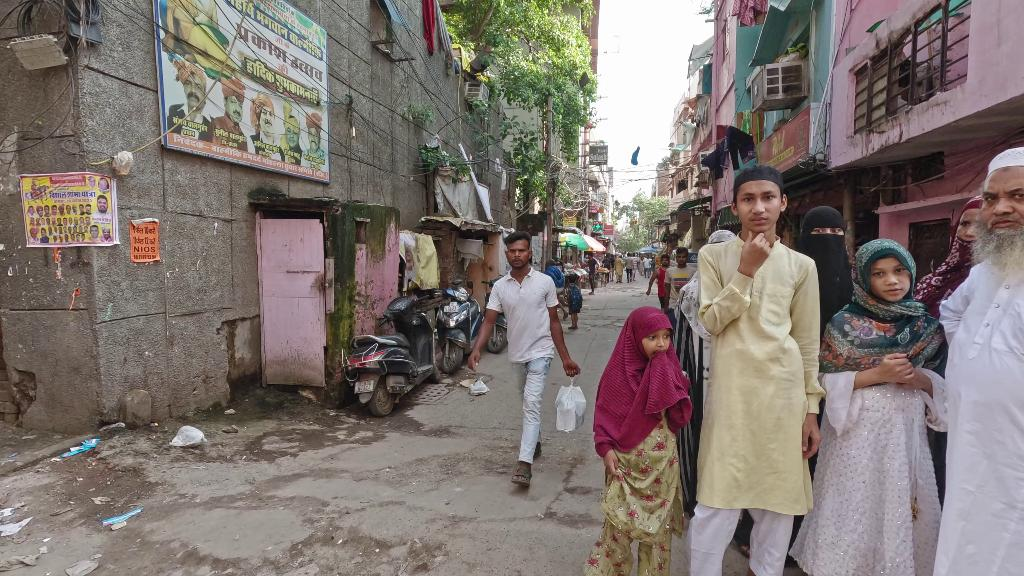garbage: (556, 376, 585, 433), (168, 424, 207, 448), (469, 378, 489, 396)
